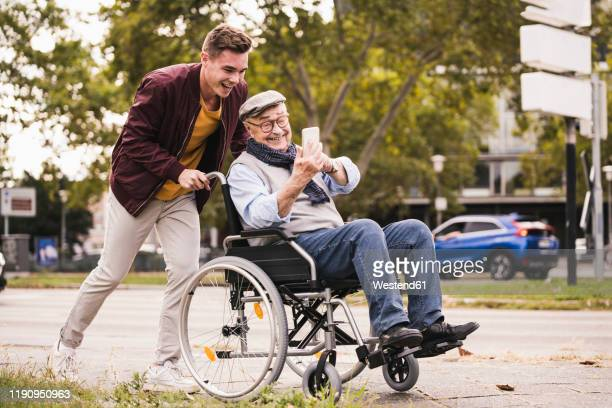wheelchair: (176, 89, 480, 399)
